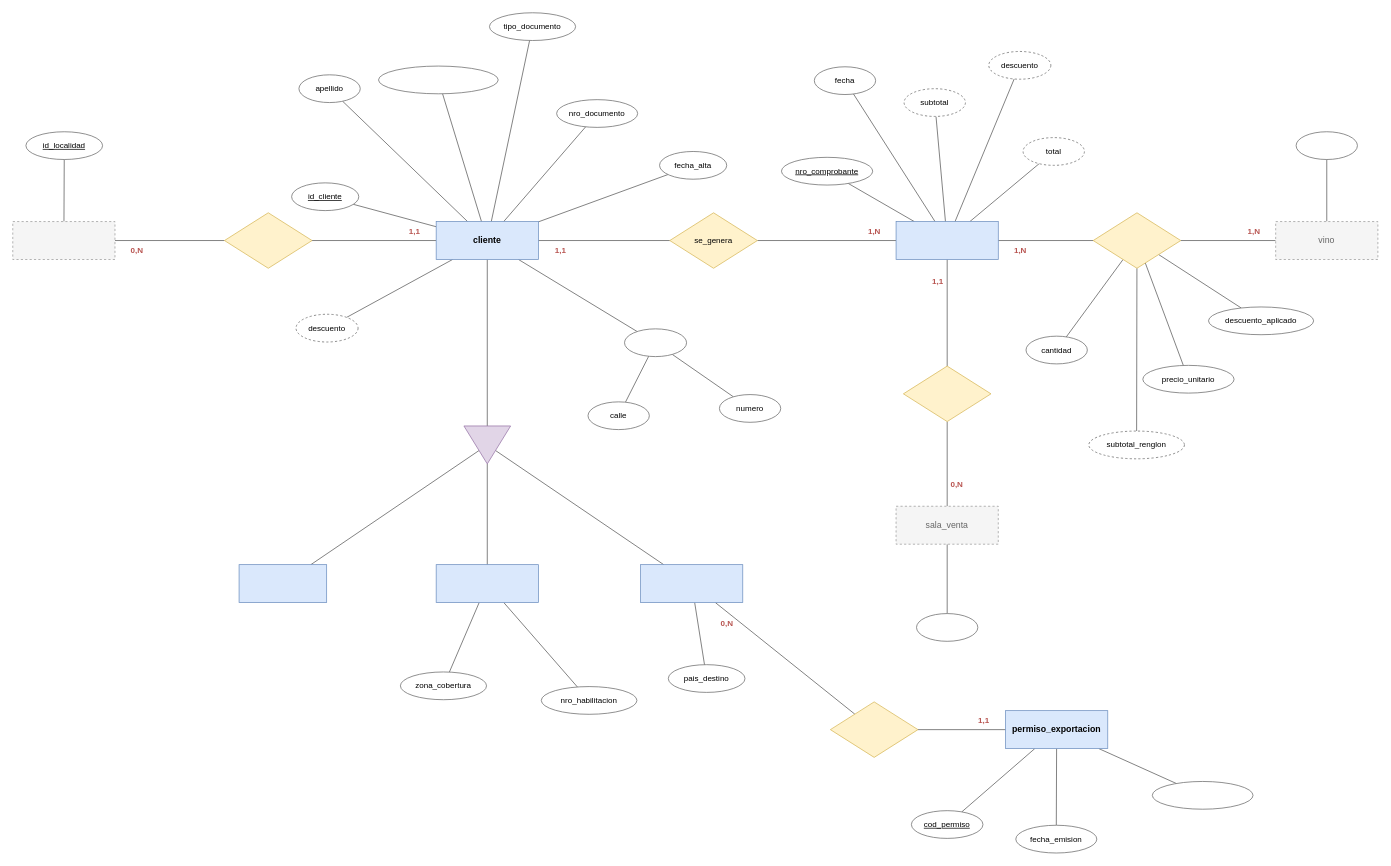
This 1391x866 diagram has some shape labels left out. Here are the shapes that lost their labels. From the top down, the box of each, then its label:
(378, 65, 498, 94): razon_social
(1295, 131, 1357, 160): cod_vino
(12, 221, 115, 260): localidad
(224, 212, 312, 268): reside
(895, 221, 998, 260): comprobante
(1092, 212, 1181, 268): incluye
(624, 328, 687, 357): direccion
(903, 365, 991, 422): realiza_en
(238, 564, 327, 603): socio
(435, 564, 538, 603): distribuidor
(640, 564, 743, 603): exportador
(916, 613, 978, 641): id_sala
(830, 701, 918, 757): posee
(1152, 781, 1253, 809): fecha_vencimiento
